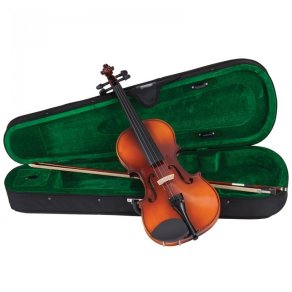Fiddle: (27, 73, 276, 245)
